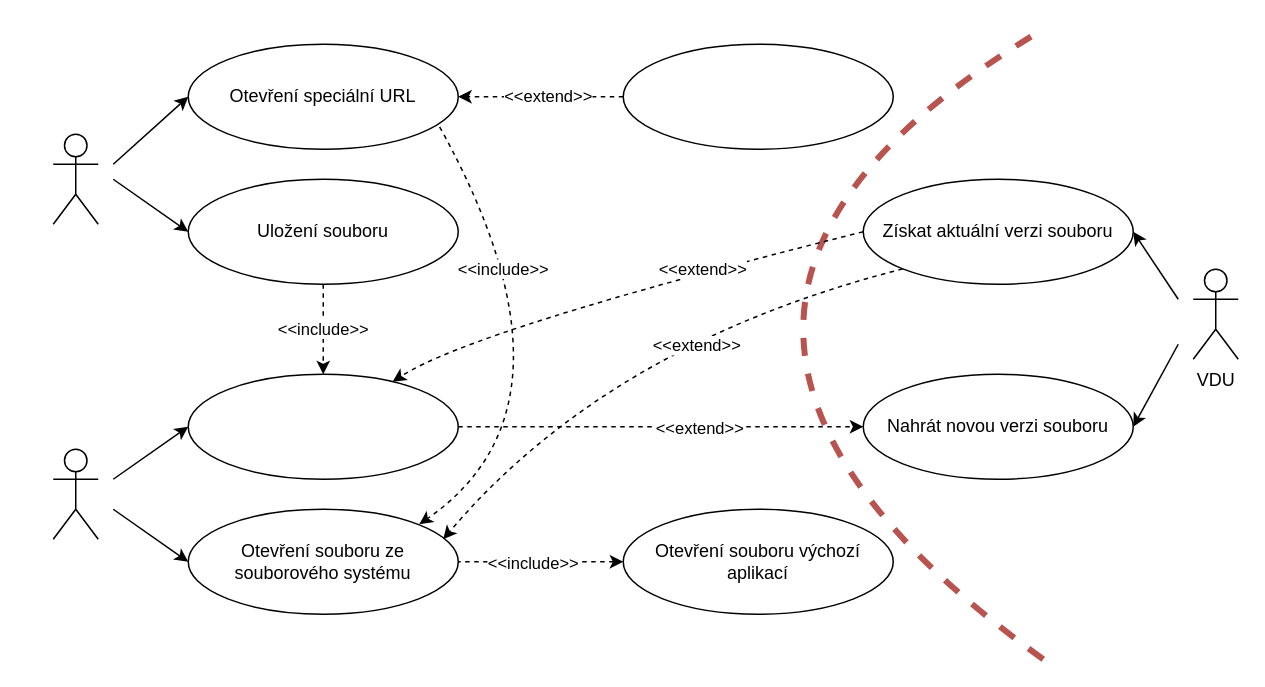
Some shapes in this 1265 by 687 pixel diagram are drawn without their labels. Each missing label, with the centre of its shape:
"FUSE Agent" goes at [75,493].
"Uložení souboru na souborový systém" goes at [322,426].
"Uživatel" goes at [75,178].
"Získání uživatelských informací (uživ. jméno, heslo)" goes at [757,96].
